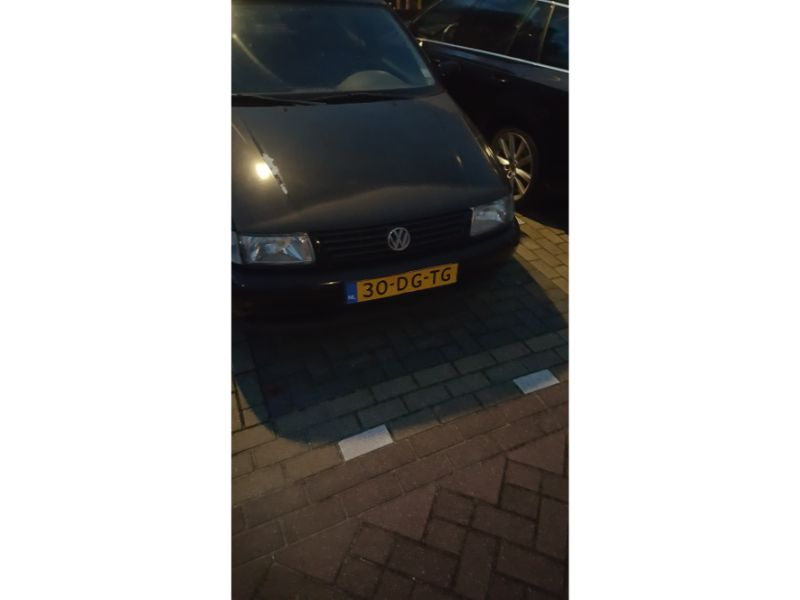kenteken: (337, 260, 462, 305)
